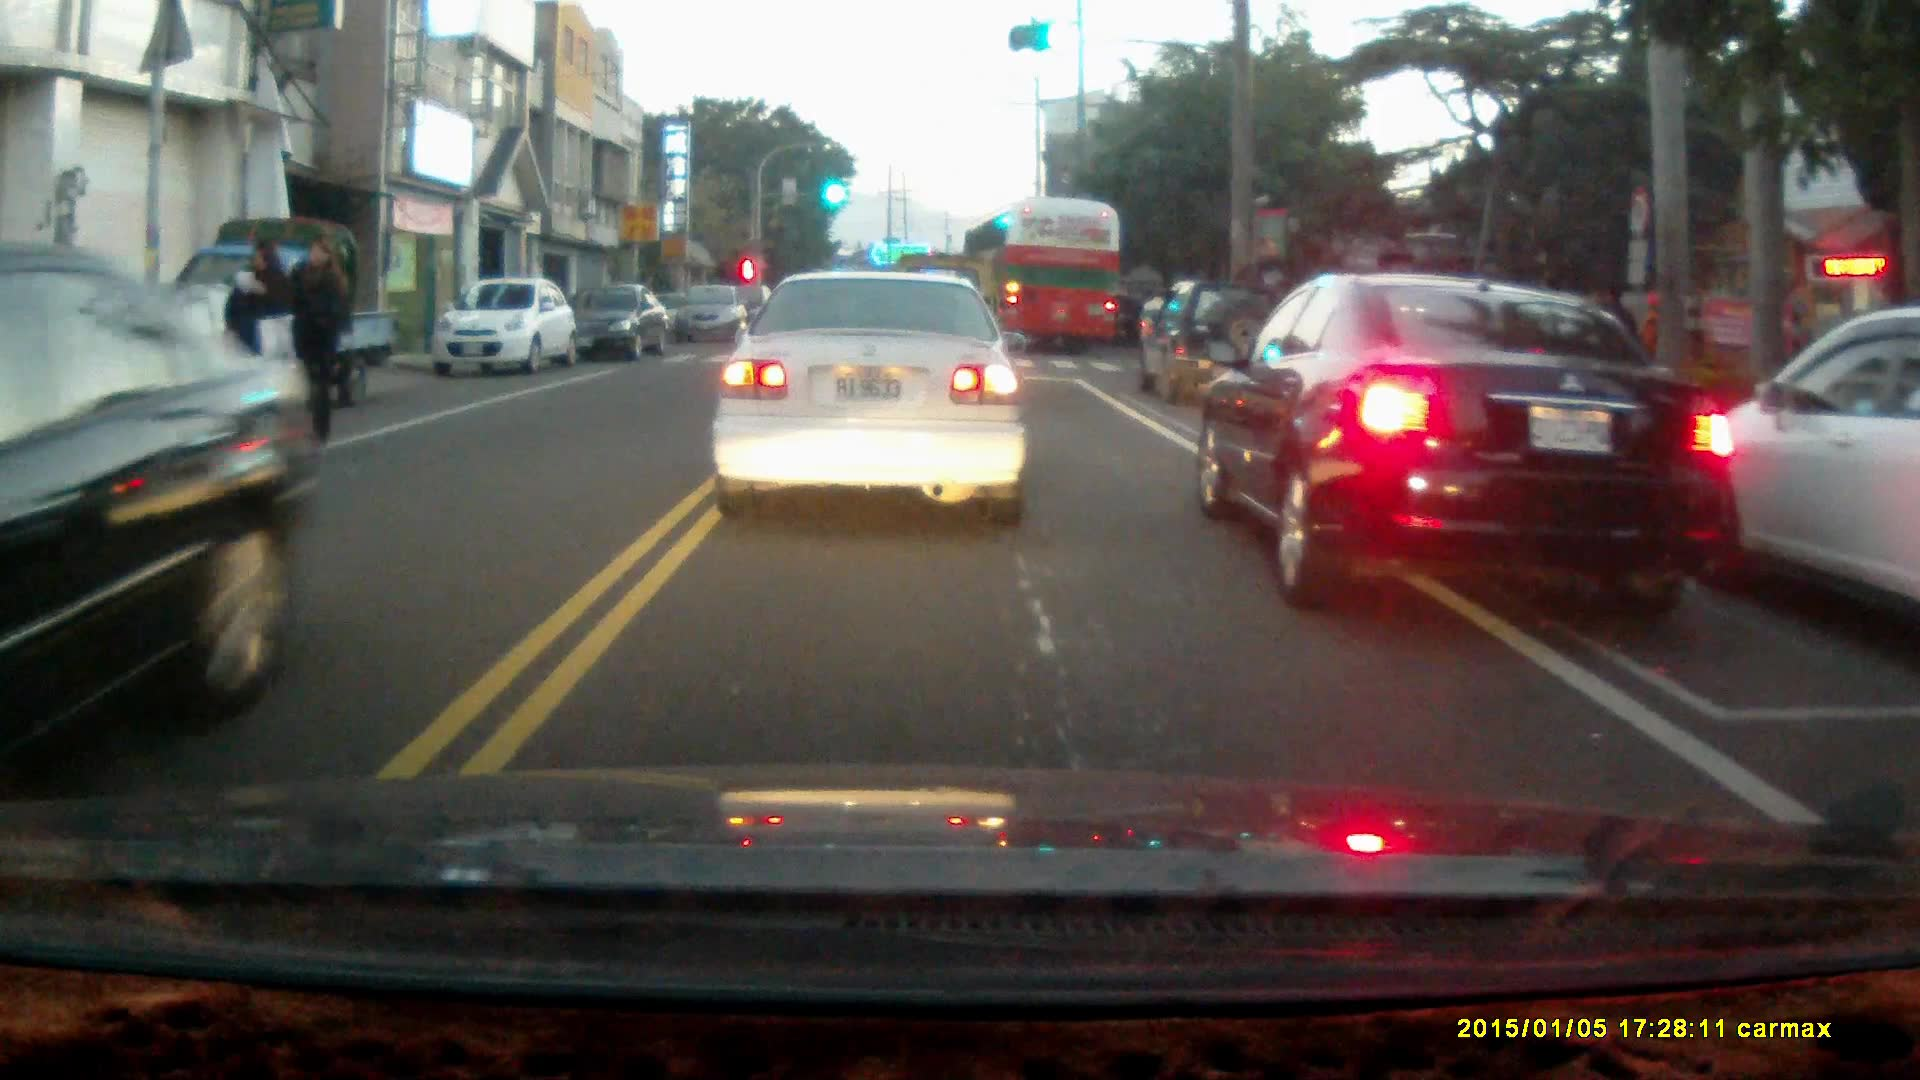pedestrian: (222, 237, 295, 448), (290, 235, 346, 442)
vehicle: (1197, 274, 1740, 604), (1, 252, 292, 791), (709, 265, 1030, 526), (1660, 303, 1920, 608), (164, 213, 408, 411), (963, 200, 1121, 358), (1144, 279, 1283, 404), (436, 279, 583, 378), (565, 278, 674, 364), (675, 286, 755, 344)
